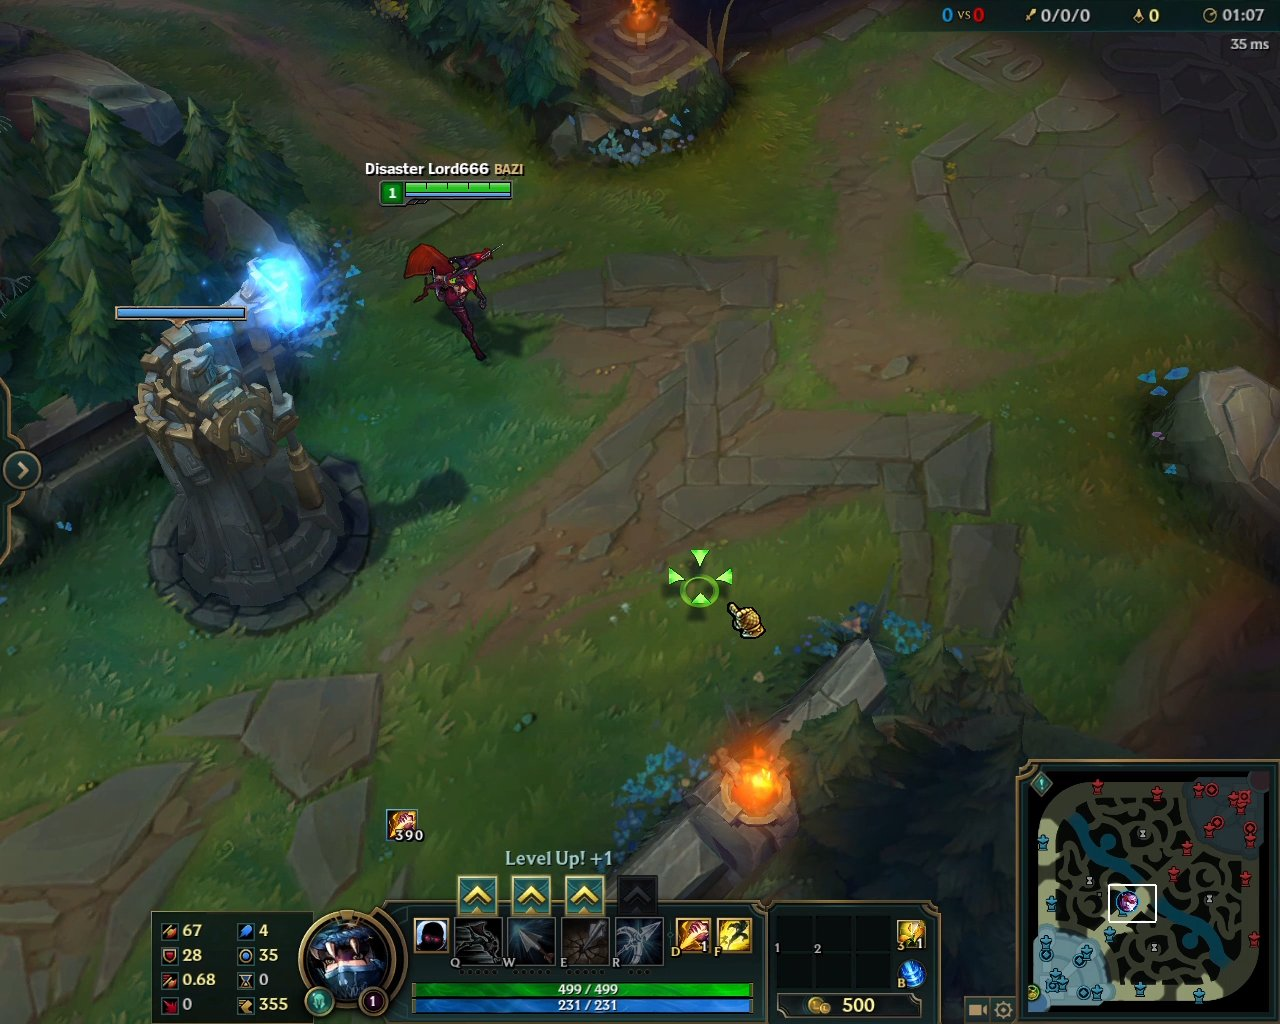Vayne: (399, 239, 514, 366)
